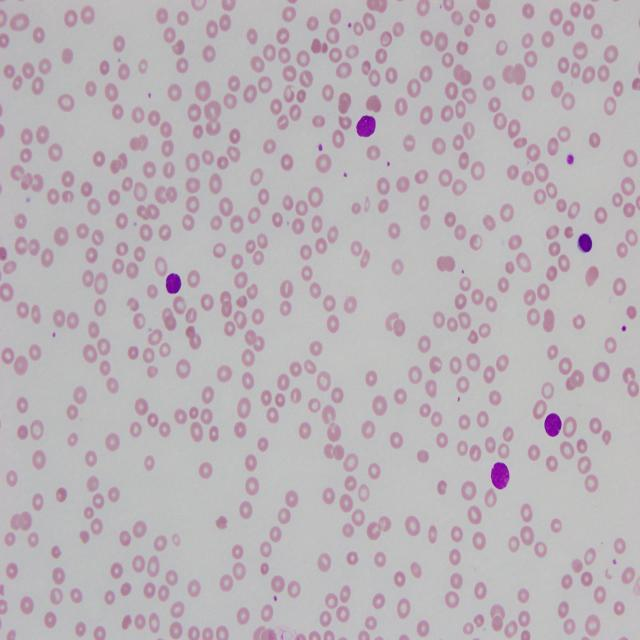cell: (491, 462, 510, 490), (356, 115, 376, 137), (544, 413, 561, 437), (166, 273, 181, 293), (578, 233, 592, 253)
